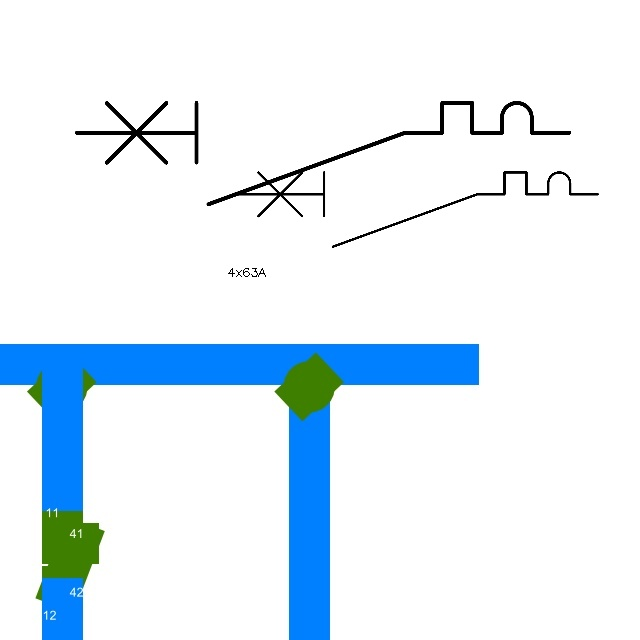interruptor_termomagnetico: (64, 90, 582, 217), (227, 163, 607, 256)
